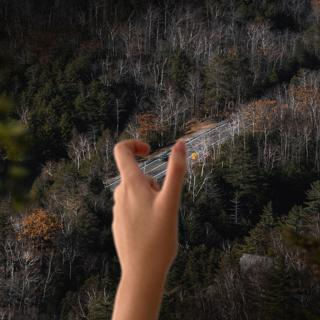Irritated: (94, 137, 196, 307)
